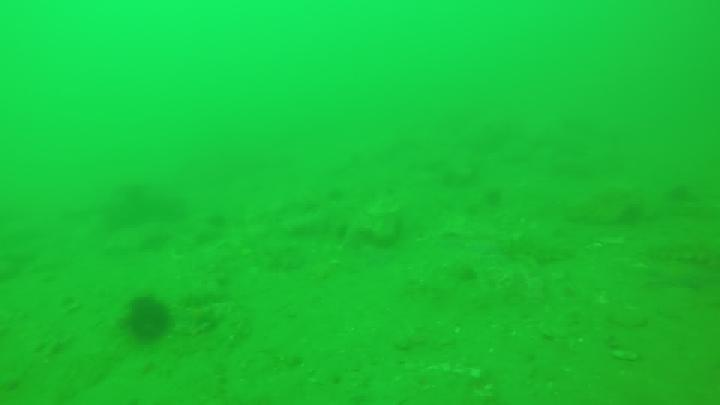echinus: (126, 296, 172, 343)
holothurian: (499, 234, 576, 262), (645, 239, 720, 267)
